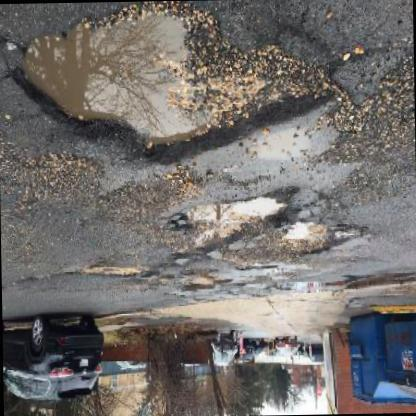pothole: (6, 0, 346, 170), (170, 181, 368, 270), (72, 261, 156, 280), (180, 271, 222, 291)
